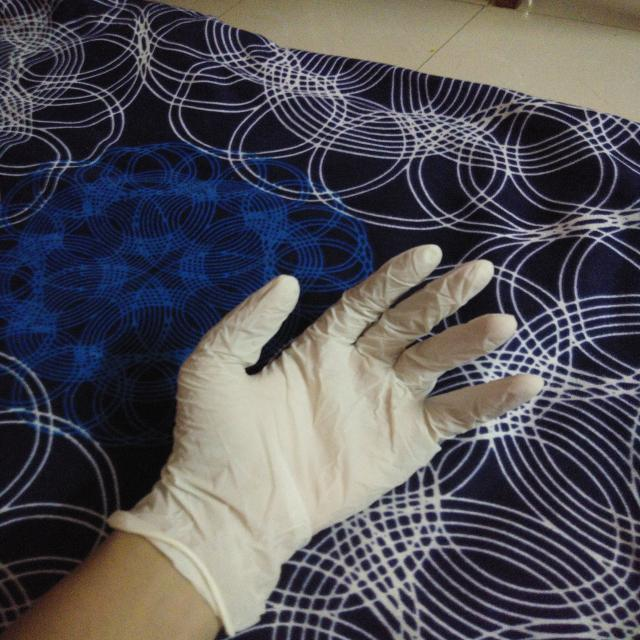glove_hand: (87, 233, 551, 633)
